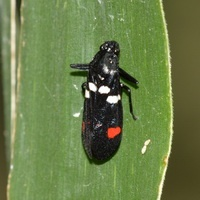insect: (70, 41, 138, 159)
